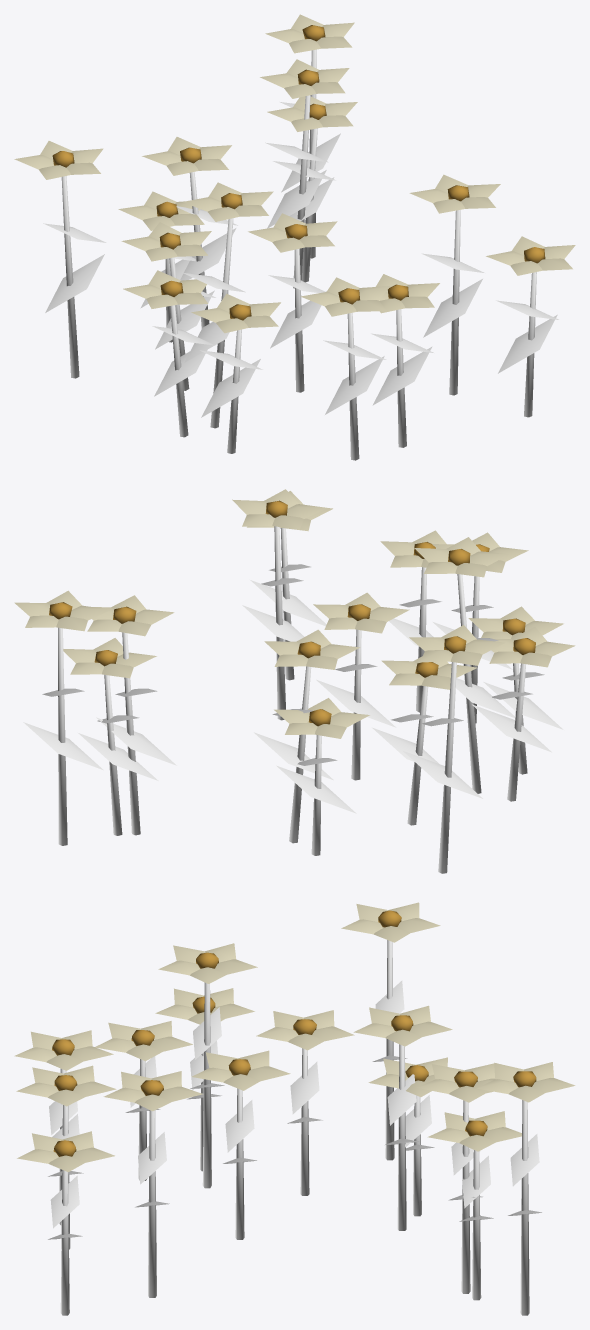
File: SM_DF_Flowers_0.fbx
The picture shows the model from 3 angles, top to bottom: view 1: azimuth 30°, elevation 25°; view 2: azimuth 150°, elevation 25°; view 3: azimuth 270°, elevation 25°; orthographic projection. The views are drawn at different scales.
Visible parts, largest first — view 1: SM_DF_Flowers_0; view 2: SM_DF_Flowers_0; view 3: SM_DF_Flowers_0.
Part boxes in pixels (x1=…): SM_DF_Flowers_0: x1=14, y1=14, x2=575, y2=460; SM_DF_Flowers_0: x1=14, y1=489, x2=575, y2=873; SM_DF_Flowers_0: x1=14, y1=902, x2=575, y2=1315.
Size of the model in its own units: 90.52 by 105 by 50.36.
